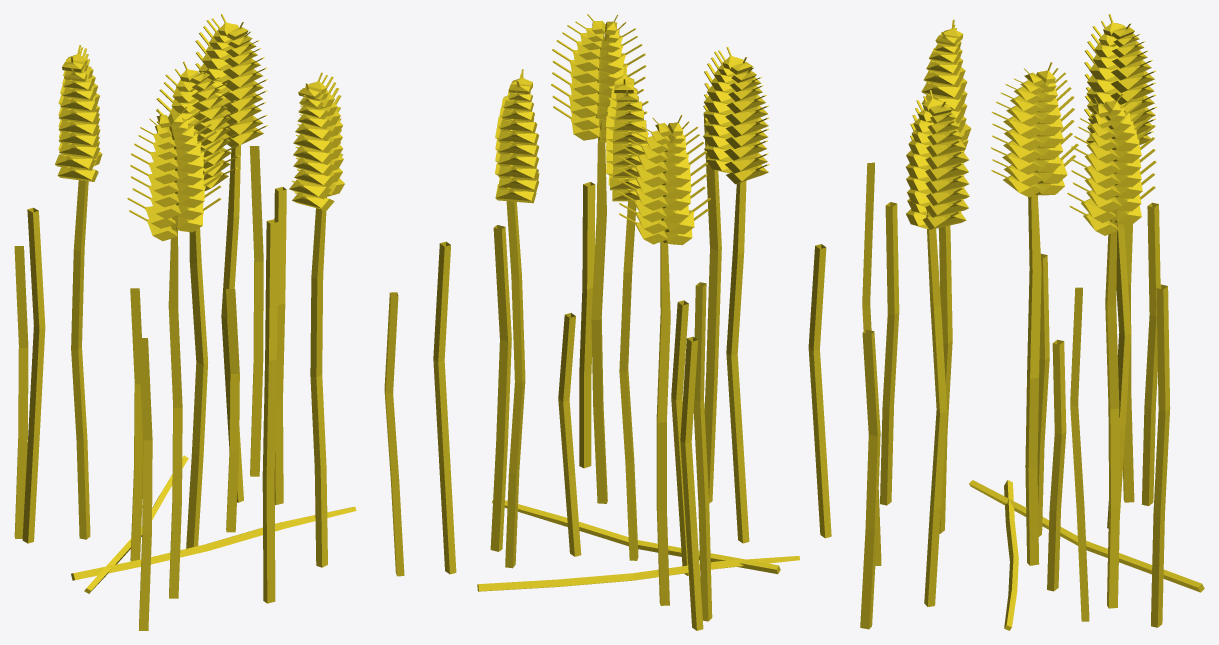
The model's file is wheat.gltf.
The picture shows the model from 3 angles, left to right: view 1: azimuth 30°, elevation 25°; view 2: azimuth 150°, elevation 25°; view 3: azimuth 270°, elevation 25°; orthographic projection. The views are drawn at different scales.
Parts seen in each view (by area): view 1: Wheat.020, Wheat.021, Wheat.019, Wheat.018; view 2: Wheat.020, Wheat.019, Wheat.021, Wheat.018; view 3: Wheat.020, Wheat.018, Wheat.021, Wheat.019.
Boxes of the visible parts, <box> form: Wheat.020: <box>14,61,404,630</box>; Wheat.021: <box>289,72,344,567</box>; Wheat.019: <box>55,45,102,539</box>; Wheat.018: <box>195,14,267,502</box>; Wheat.020: <box>433,47,831,630</box>; Wheat.019: <box>617,114,710,605</box>; Wheat.021: <box>551,14,648,503</box>; Wheat.018: <box>495,69,539,568</box>; Wheat.020: <box>860,19,1204,630</box>; Wheat.018: <box>1067,93,1156,608</box>; Wheat.021: <box>906,90,969,606</box>; Wheat.019: <box>1084,14,1156,528</box>.
Bounding box in the file's own units: 1.83 × 2.96 × 1.82.
